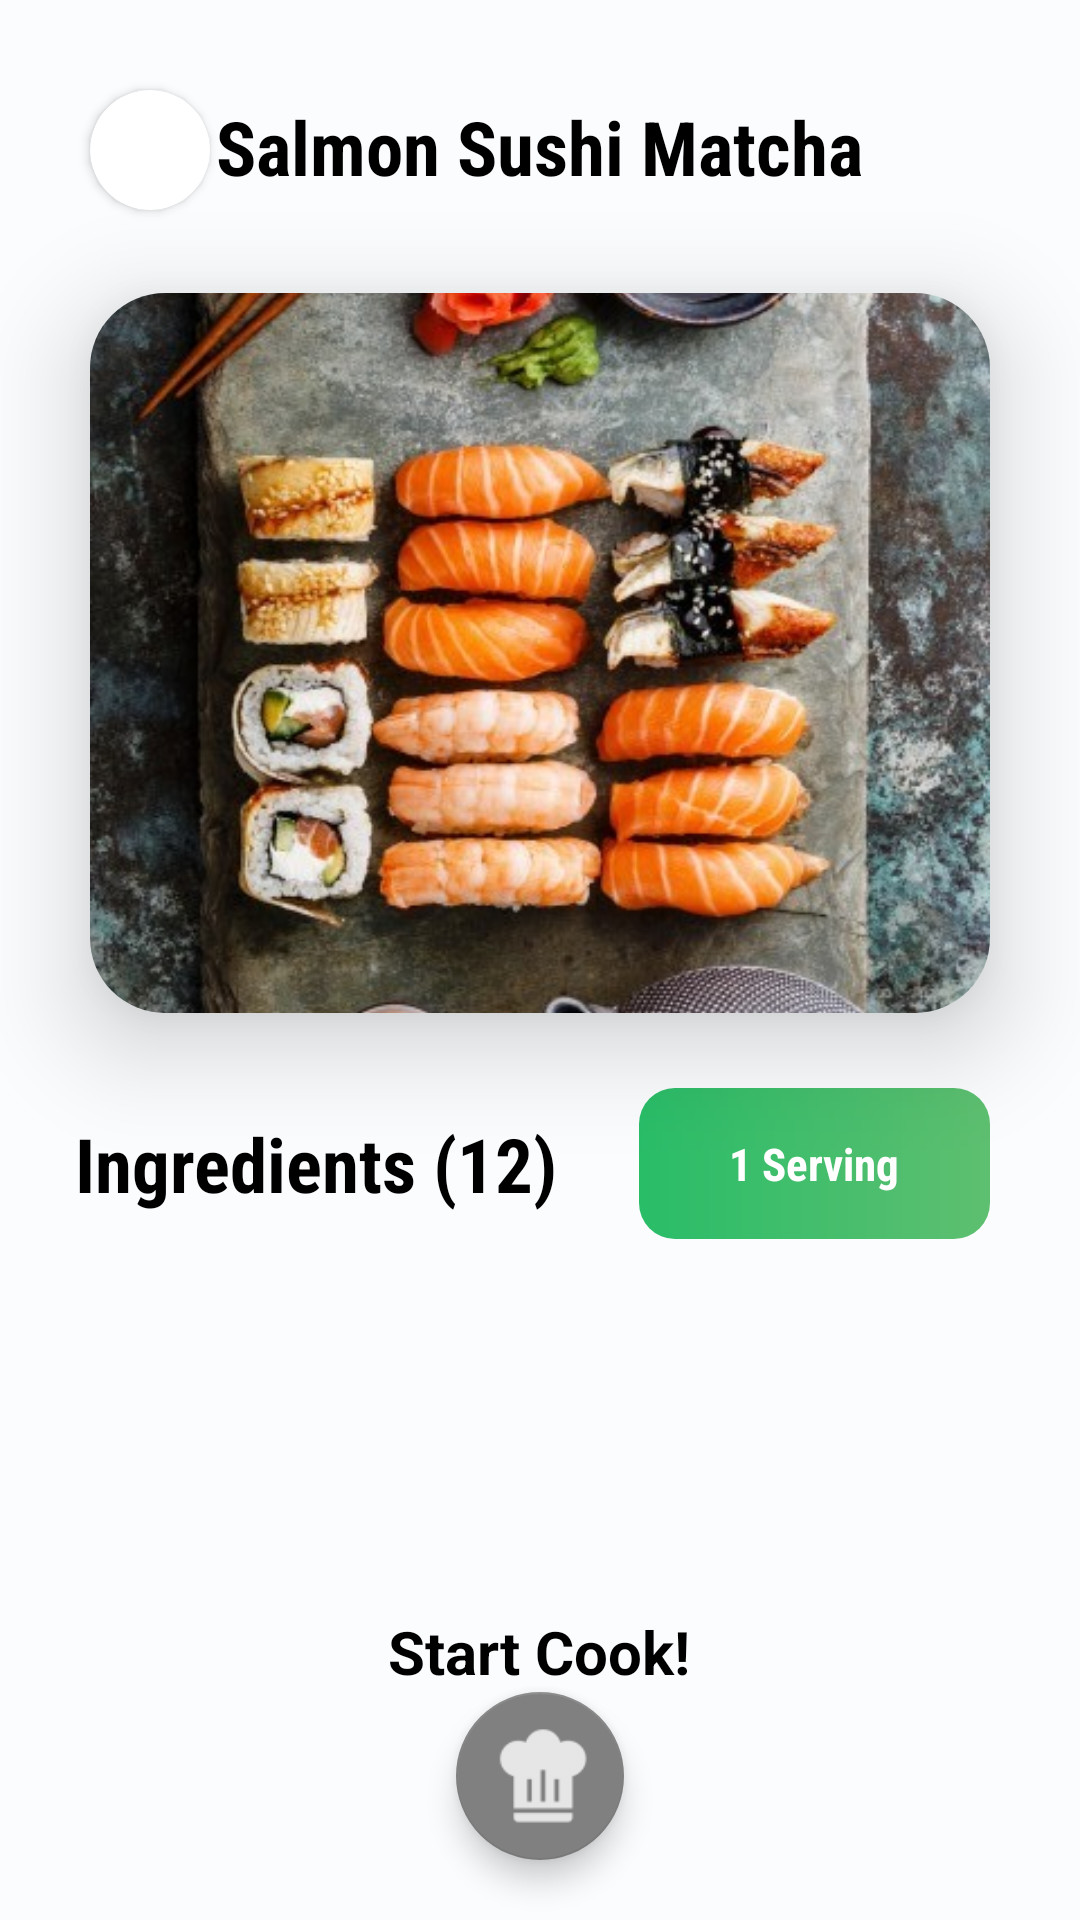

Icons on this 1080 x 1920 Android screen, each with the point to tap as point (x, y):
chefhat: point (540, 1776)
